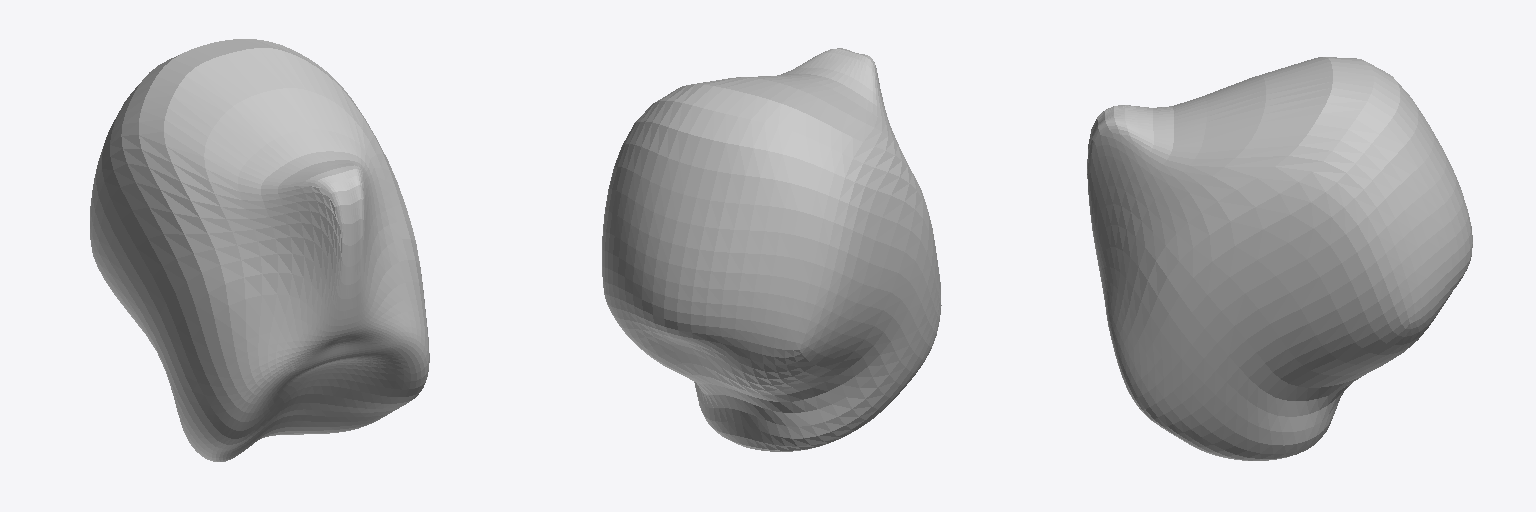
The model's file is vertabrae16.obj.
The picture shows the model from 3 angles: view 1: azimuth 30°, elevation 25°; view 2: azimuth 150°, elevation 25°; view 3: azimuth 270°, elevation 25°; orthographic projection.
Visible parts, largest first — view 1: Cube.111_Cube.113; view 2: Cube.111_Cube.113; view 3: Cube.111_Cube.113.
Part boxes in pixels (left/top/right/bottom): Cube.111_Cube.113: left=90, top=39, right=429, bottom=461; Cube.111_Cube.113: left=602, top=48, right=941, bottom=451; Cube.111_Cube.113: left=1087, top=57, right=1472, bottom=460.
Bounding box in the file's own units: 0.0863 × 0.1245 × 0.1187.